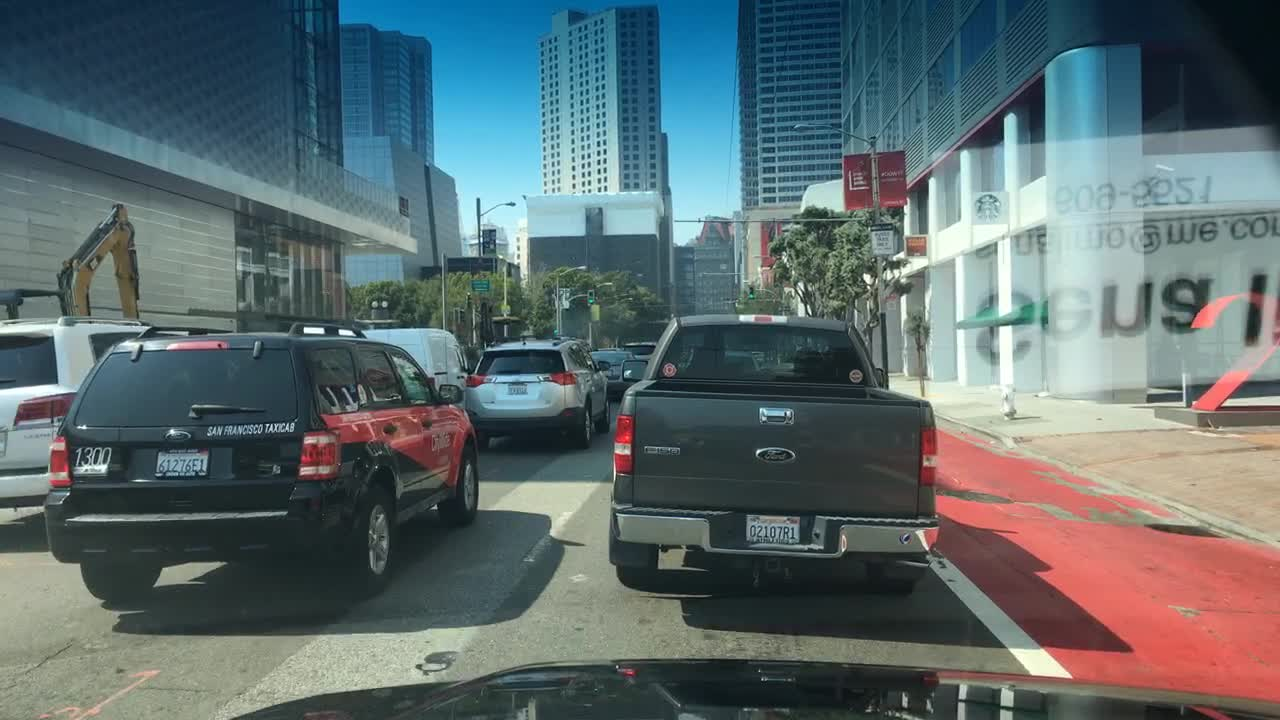car: (41, 318, 479, 601), (0, 318, 189, 510), (465, 336, 607, 450), (300, 317, 469, 410), (588, 350, 636, 398), (625, 341, 657, 366)
traffic light: (586, 289, 596, 306), (746, 283, 753, 301)
traffic sign: (870, 223, 893, 254), (471, 279, 489, 291)
truck: (606, 313, 939, 598)
